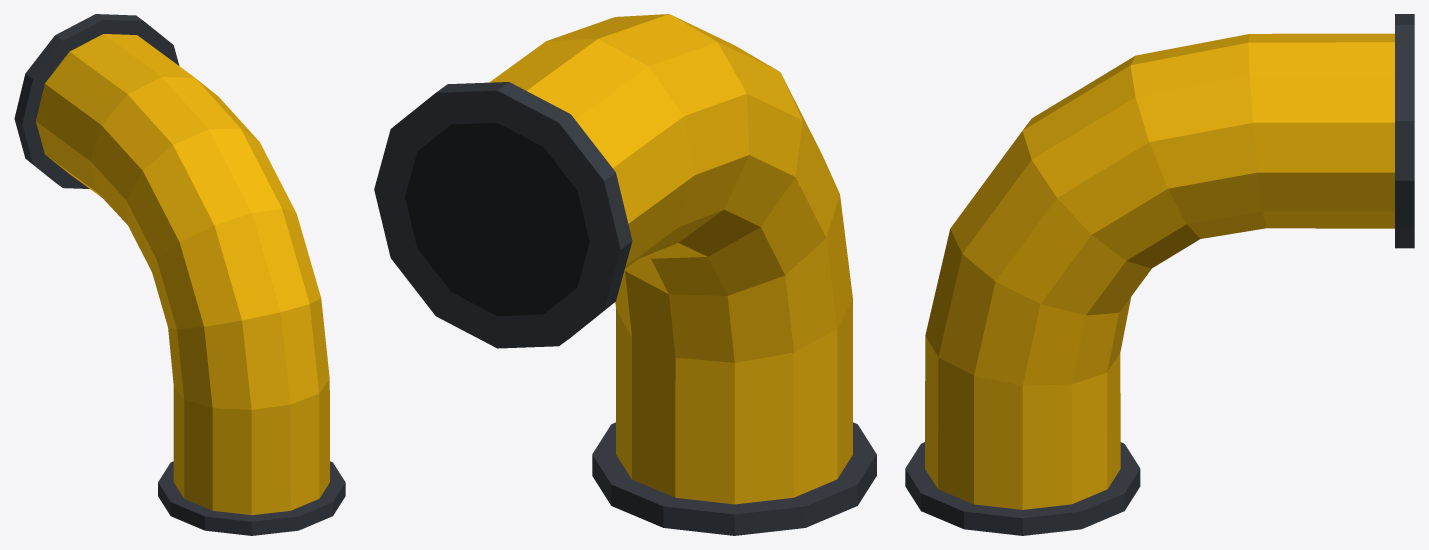
File: Pipe_0.5x1_Corner.fbx
The picture shows the model from 3 angles, left to right: view 1: azimuth 30°, elevation 25°; view 2: azimuth 150°, elevation 25°; view 3: azimuth 270°, elevation 25°; orthographic projection. The views are drawn at different scales.
Parts seen in each view (by area): view 1: Pipe_0.5x1_Corner; view 2: Pipe_0.5x1_Corner; view 3: Pipe_0.5x1_Corner.
Part boxes in pixels (x1,y1,x2,y2): Pipe_0.5x1_Corner: (14, 14, 345, 535); Pipe_0.5x1_Corner: (374, 14, 876, 535); Pipe_0.5x1_Corner: (905, 14, 1414, 535).
Size of the model in its own units: 60 by 130 by 130.
